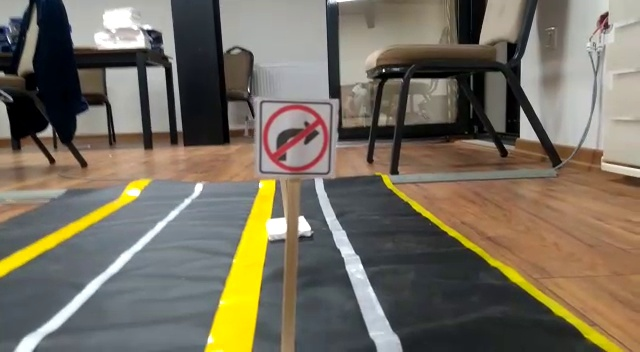saga_donulmez: (260, 99, 330, 173)
